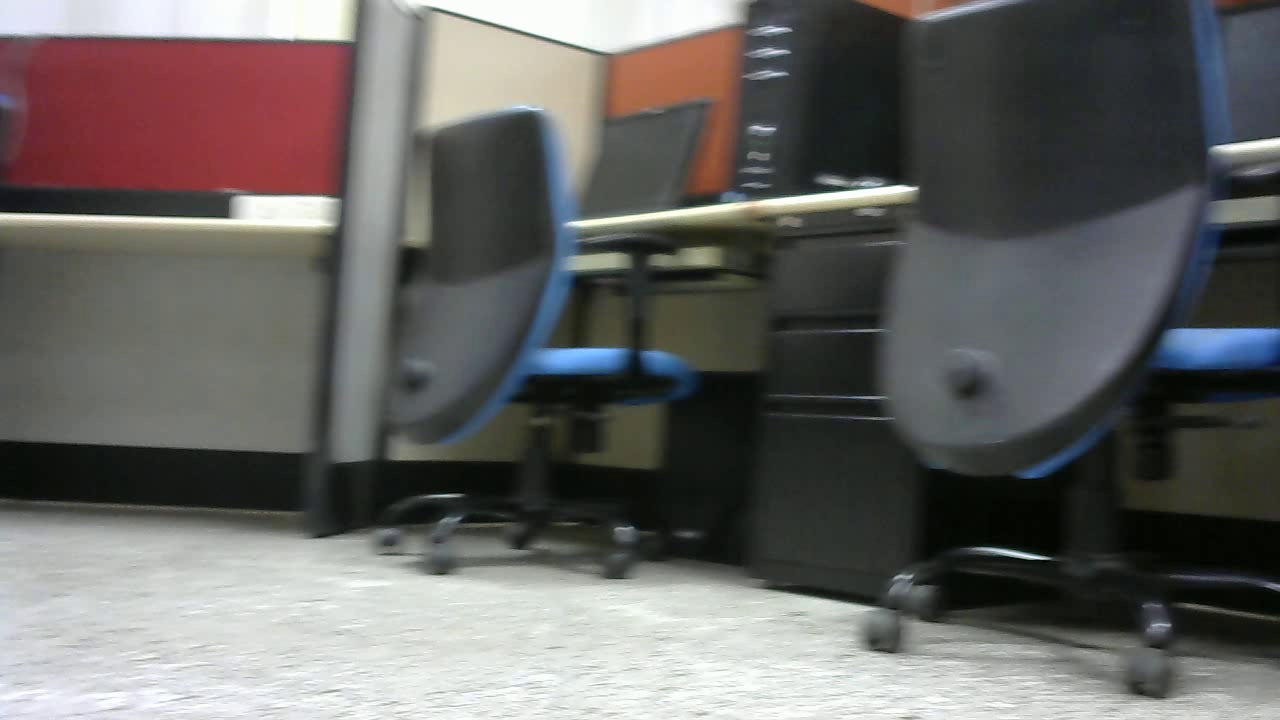chair: (358, 110, 698, 591)
